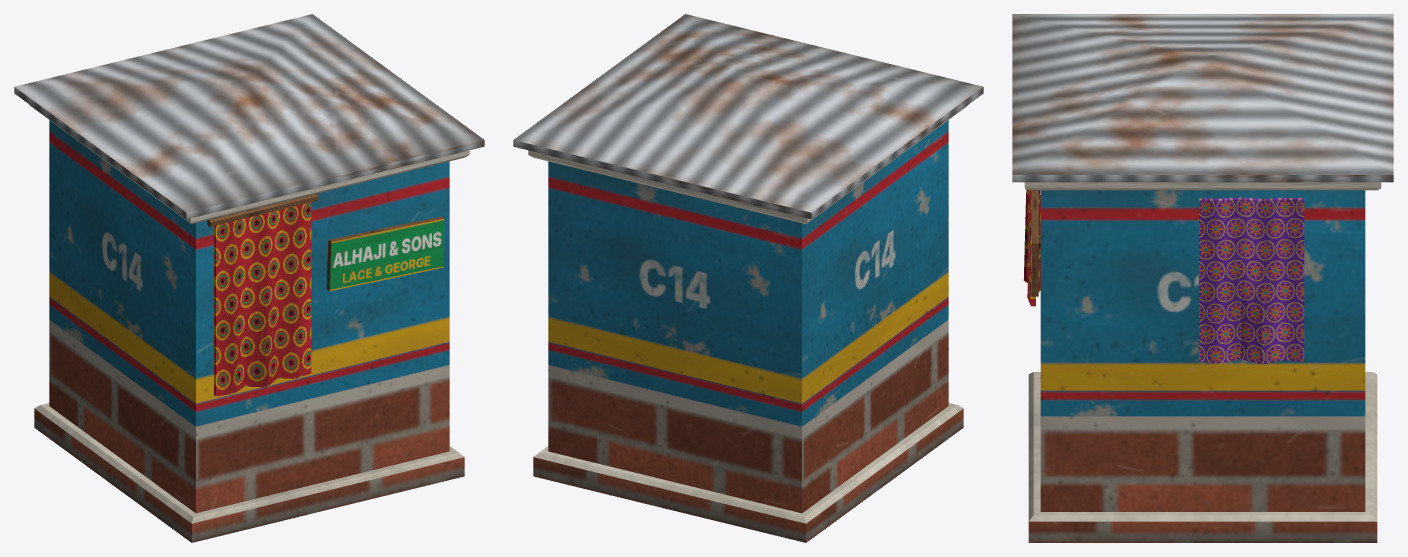
File: mkt_hard_post.glb
3 renders of one model, left to right at view 1: azimuth 30°, elevation 25°; view 2: azimuth 150°, elevation 25°; view 3: azimuth 270°, elevation 25°, orthographic. The views are drawn at different scales.
Parts seen in each view (by area): view 1: mkt_hard_post_body; view 2: mkt_hard_post_body; view 3: mkt_hard_post_body.
Part boxes in pixels (x1,y1,x2,y2): mkt_hard_post_body: (14, 14, 484, 542); mkt_hard_post_body: (513, 14, 983, 542); mkt_hard_post_body: (1012, 14, 1393, 542).
Bounding box in the file's own units: 0.94 × 1.11 × 0.94.
1 material, 1 textured.
